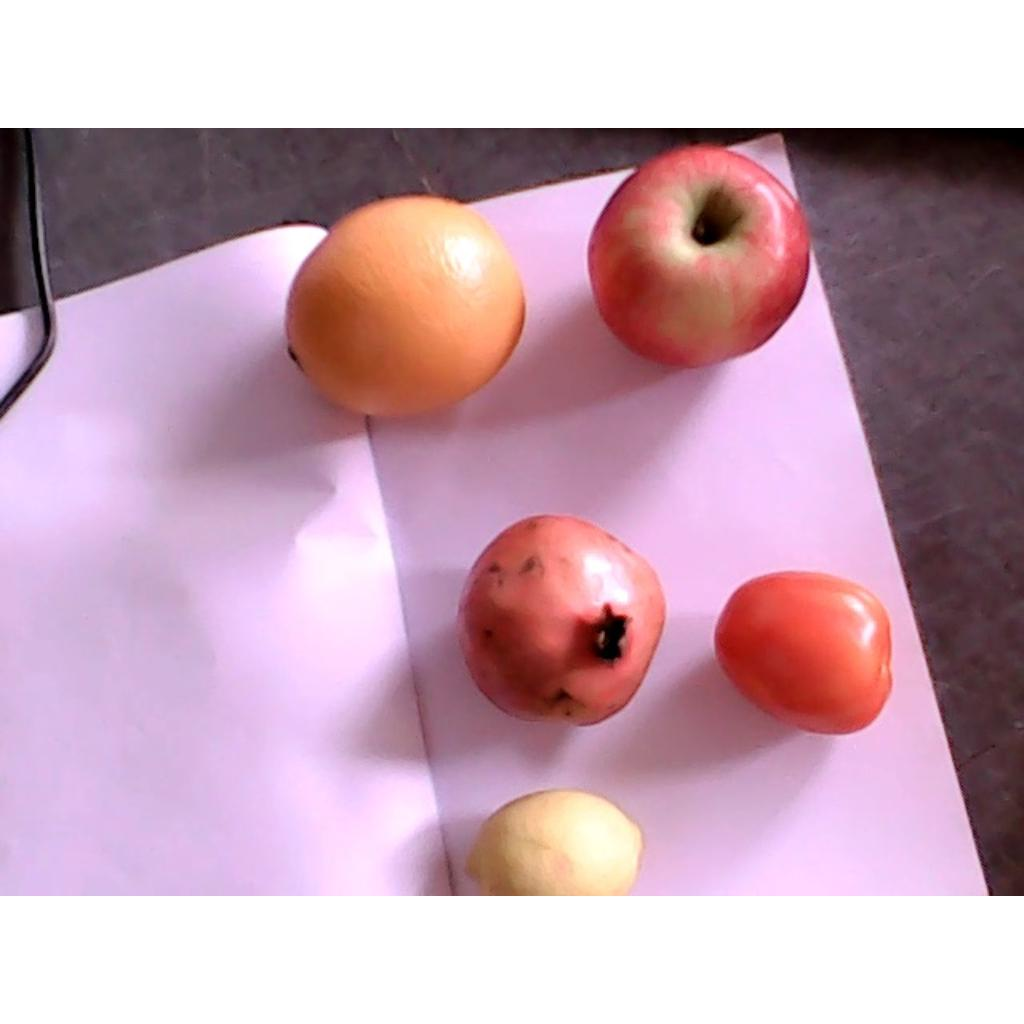apple: (587, 148, 810, 367)
lemon: (467, 791, 646, 894)
orange: (288, 196, 526, 417)
pomegranate: (454, 515, 667, 724)
tomato: (713, 573, 894, 733)
